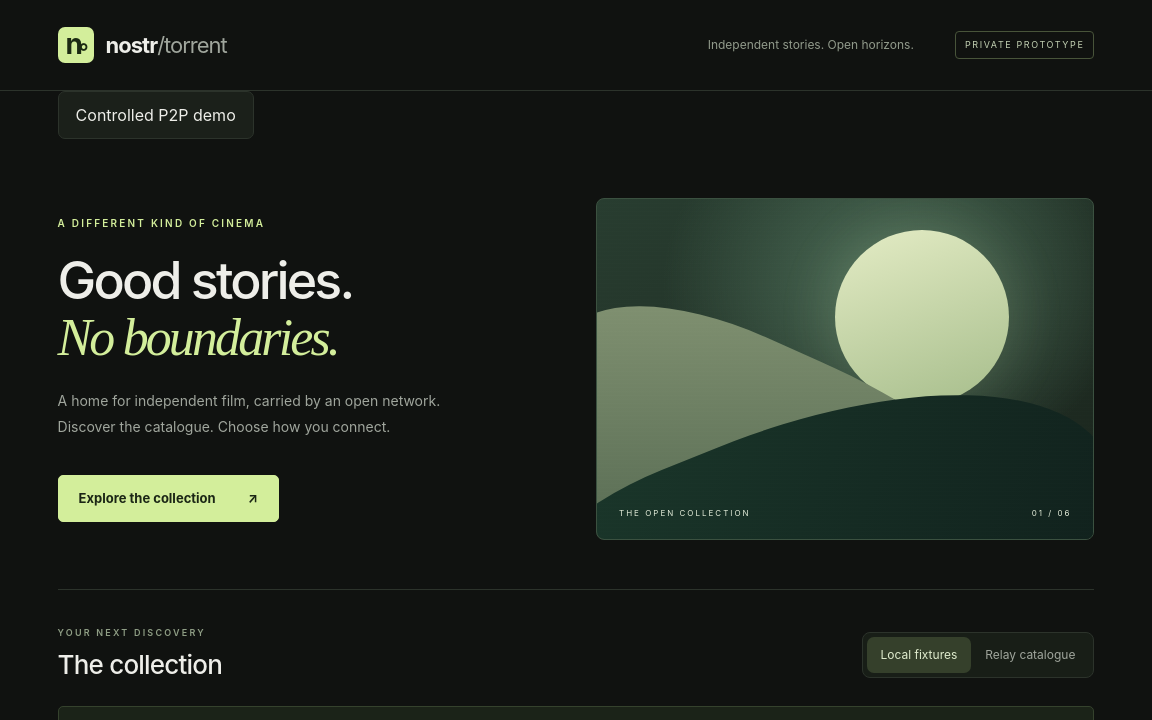
Test: discloses that the four-wire limit does not cap transient WebRTC signaling connections
Click the button "Controlled P2P demo": (156, 115) [58, 91, 254, 139]
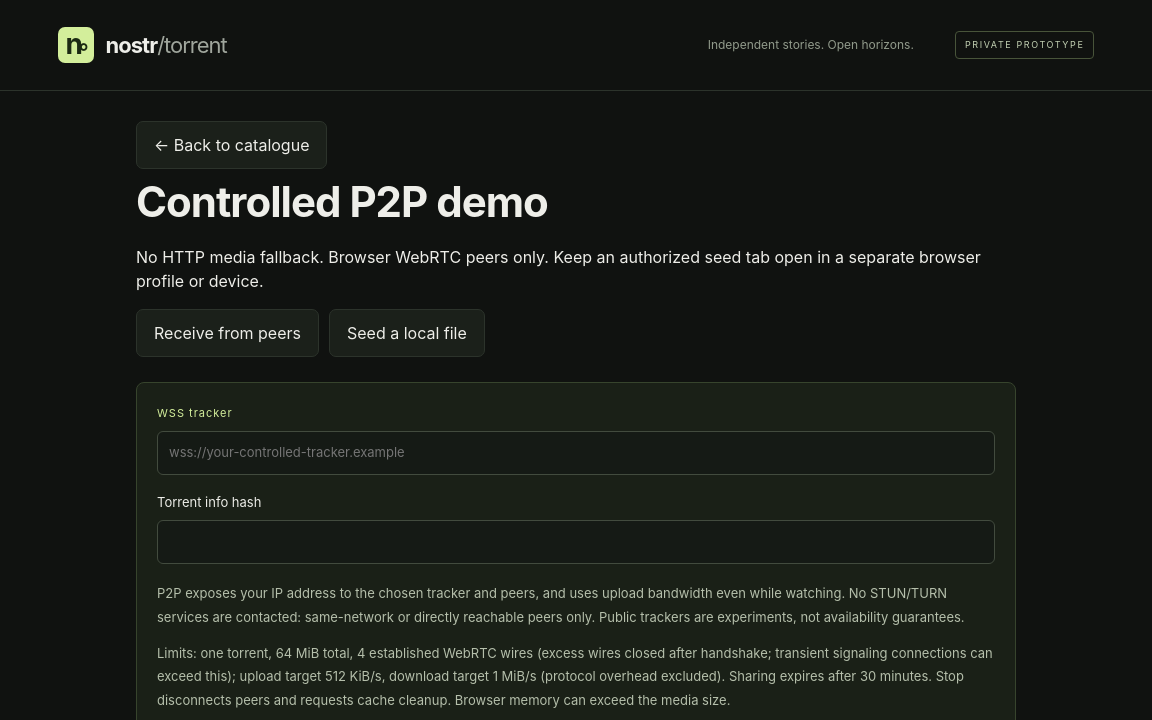
Check: the text "4 established WebRTC wires" is shown, box [157, 645, 993, 708]
Check: the text "transient signaling connections can exceed this" is shown, box [157, 645, 993, 708]
